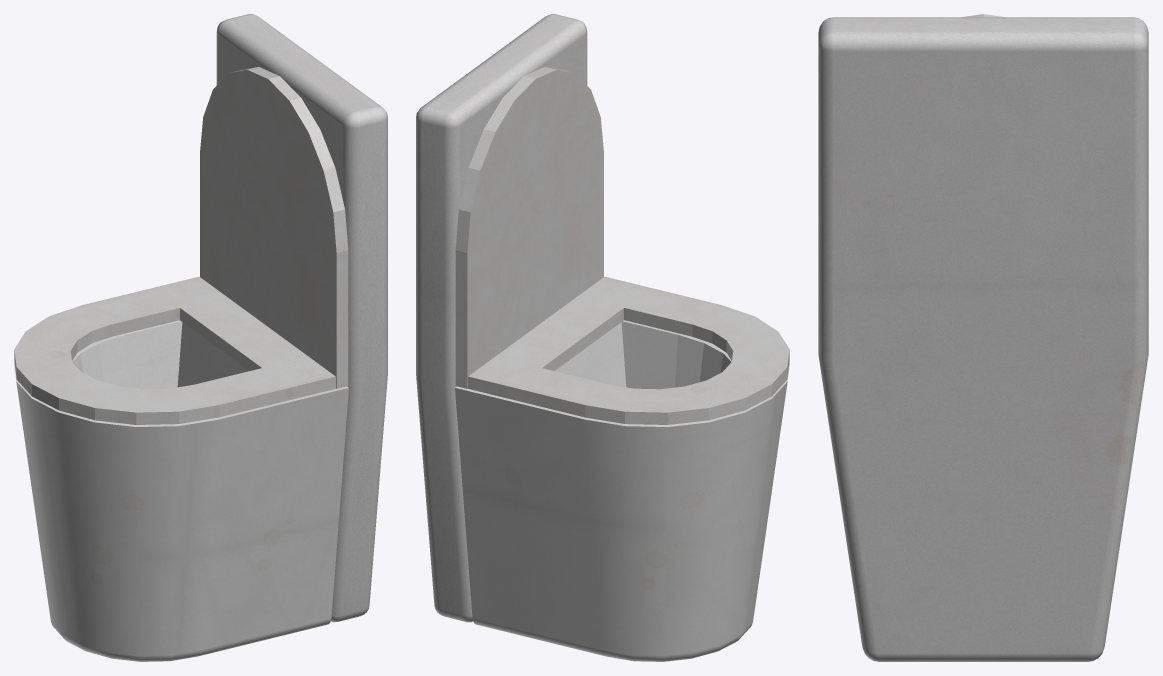
File: Toilet.fbx
The picture shows the model from 3 angles, left to right: view 1: azimuth 30°, elevation 25°; view 2: azimuth 150°, elevation 25°; view 3: azimuth 270°, elevation 25°; orthographic projection. The views are drawn at different scales.
Visible parts, largest first — view 1: Base, Lid, back, Seat; view 2: Base, Lid, back, Seat; view 3: back.
Part boxes in pixels (<box>): Base: <box>14,320,348,661</box>; Lid: <box>200,67,348,388</box>; back: <box>216,14,387,622</box>; Seat: <box>14,276,335,424</box>; Base: <box>455,320,789,661</box>; Lid: <box>455,67,603,388</box>; back: <box>416,14,587,622</box>; Seat: <box>468,276,789,424</box>; back: <box>818,17,1148,661</box>.
Bounding box in the file's own units: 3.37 × 5.76 × 2.74.
Materials: 4 (4 with a texture image).
